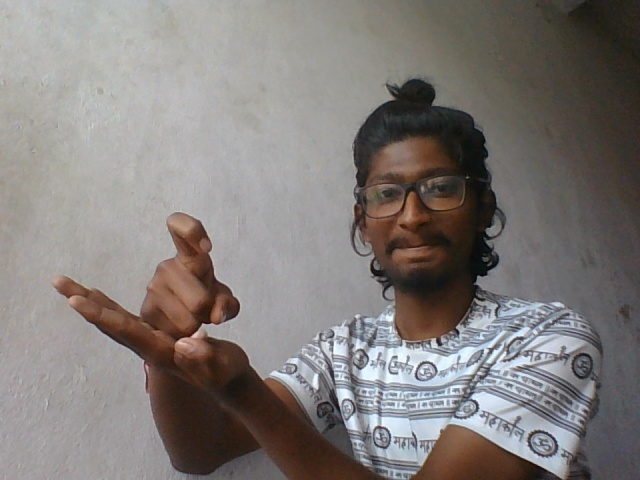No: (44, 207, 259, 395)
